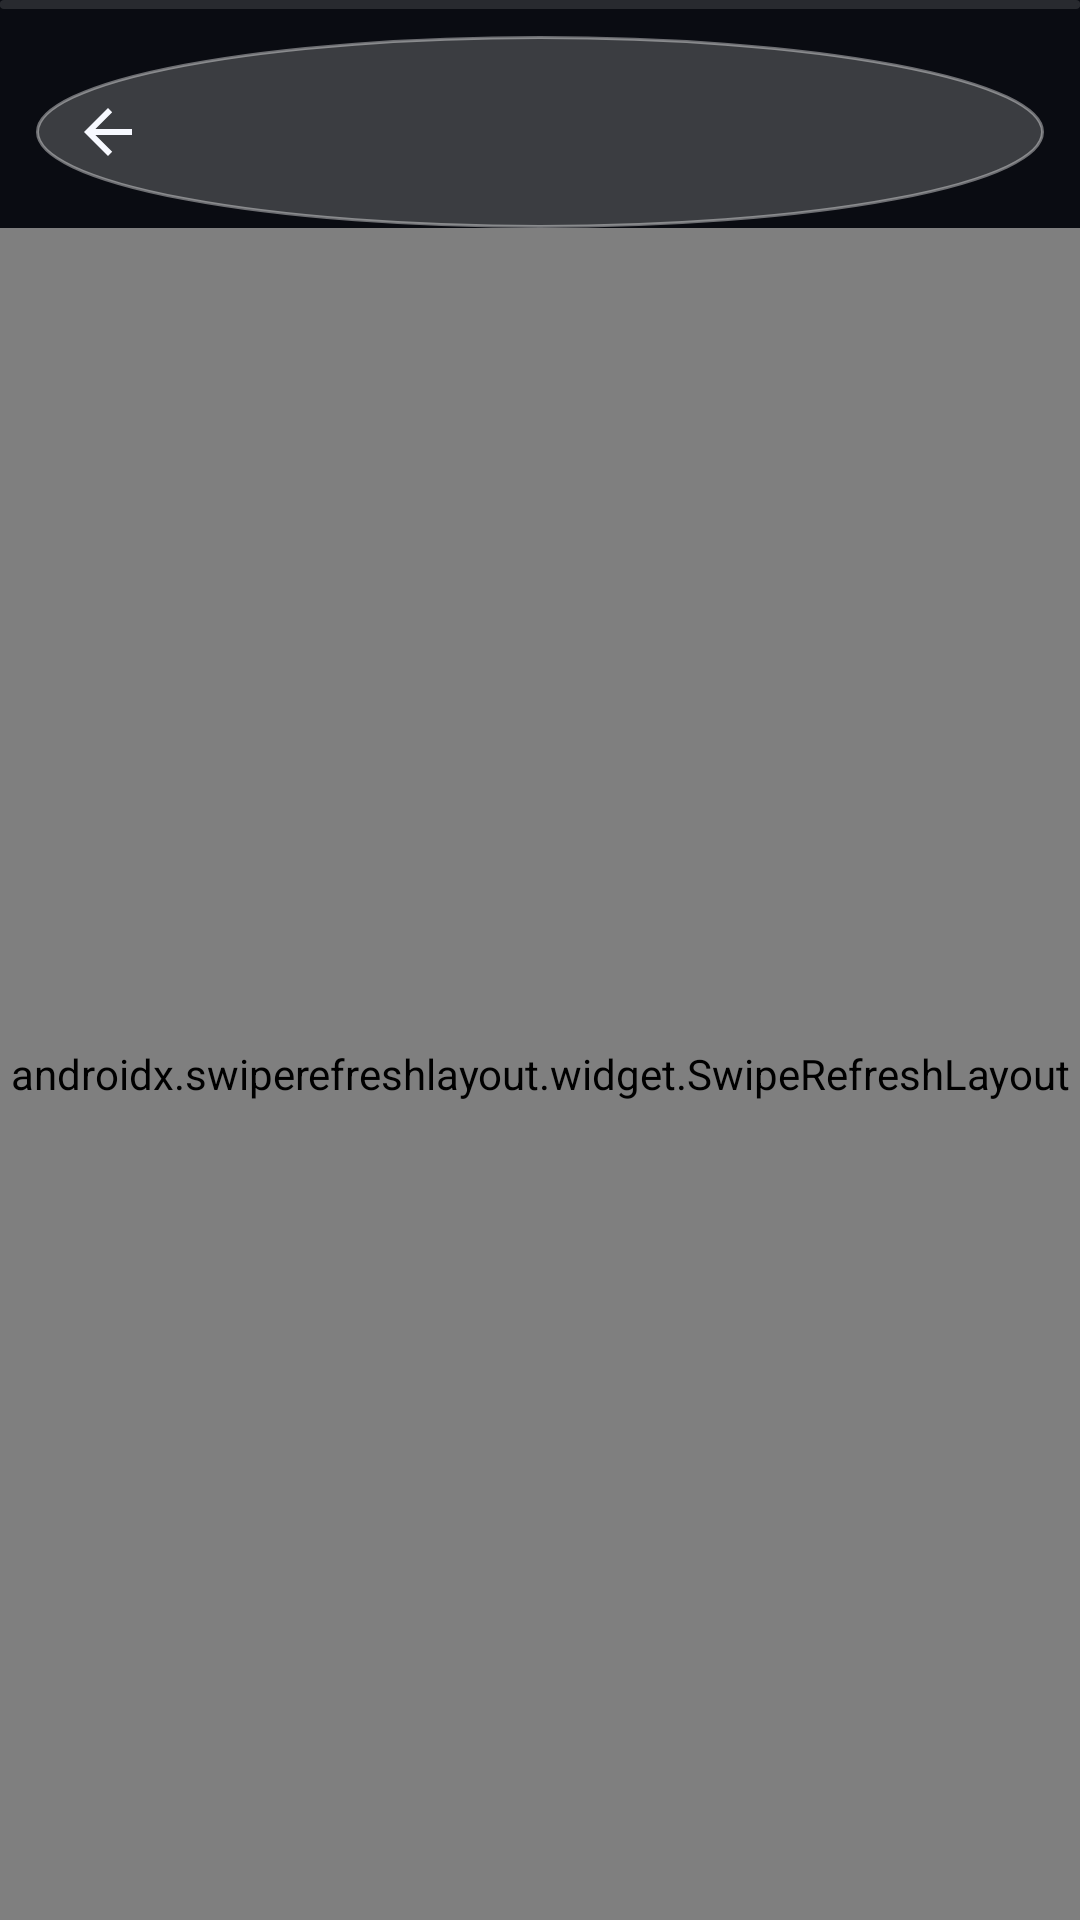

Where icons sit on this 1080*1920 app screen, as rect(x1, y1, x2, y2):
Back: rect(42, 66, 174, 198)
